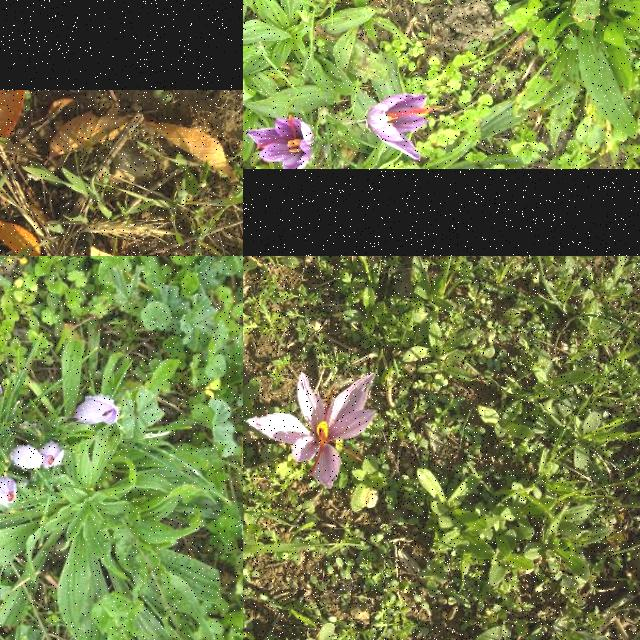flower: (249, 372, 379, 490), (366, 93, 432, 161), (246, 116, 316, 170), (74, 396, 120, 426), (0, 476, 17, 507)
overlap: (11, 442, 65, 470)
